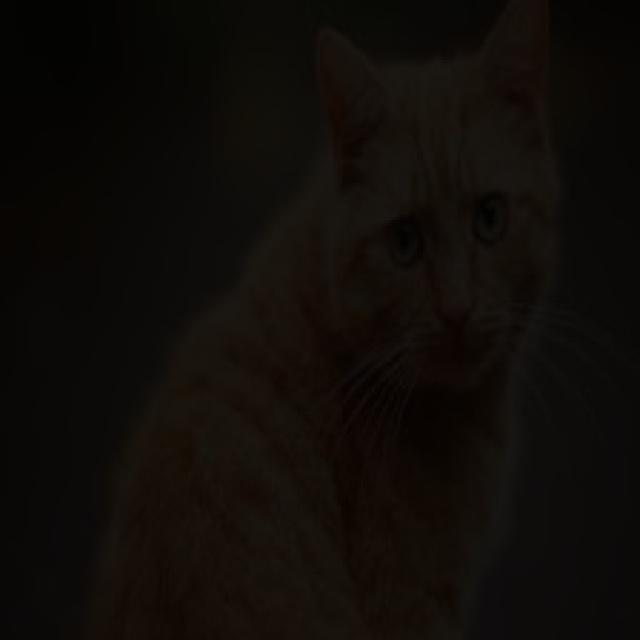bear: (147, 39, 606, 582)
